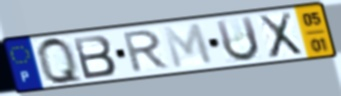B: (70, 33, 119, 81)
M: (161, 21, 216, 71)
Q: (35, 35, 86, 87)
R: (122, 28, 173, 75)
U: (213, 14, 262, 64)
X: (256, 10, 305, 61)
